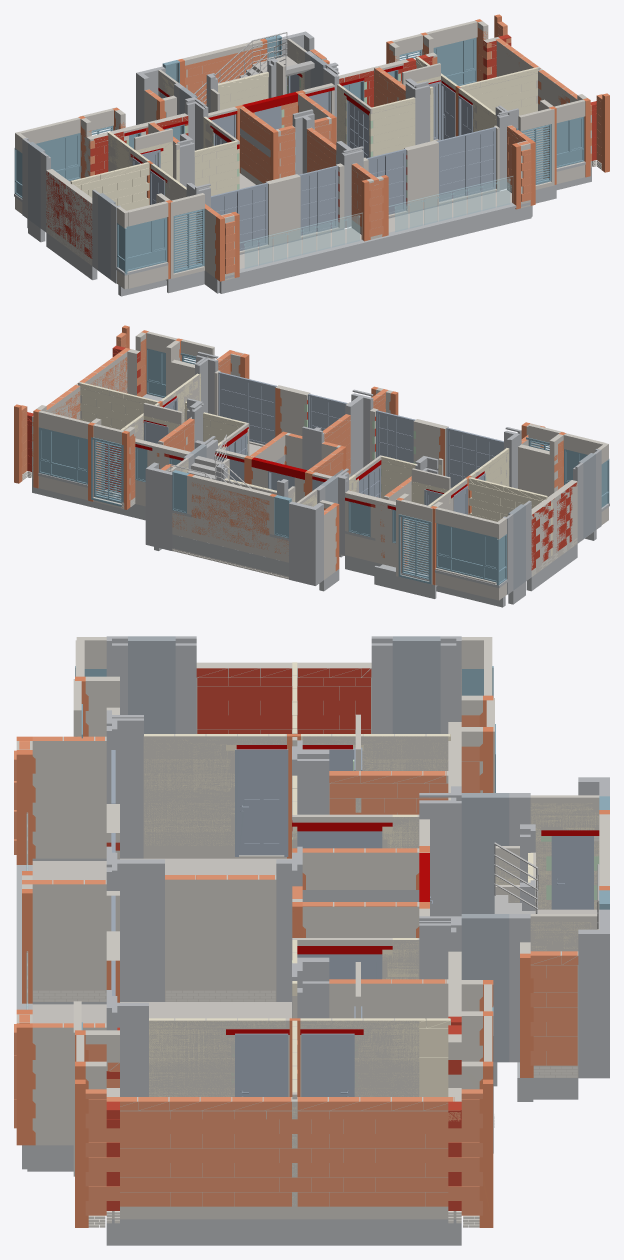
The picture shows the model from 3 angles, top to bottom: view 1: azimuth 30°, elevation 25°; view 2: azimuth 150°, elevation 25°; view 3: azimuth 270°, elevation 25°; orthographic projection. The views are drawn at different scales.
Parts seen in each view (by area): view 1: C_Q, C_M, C_QC__T100, C_QC__T200, C_W, C_Z.001, C_L, C_GZ, C_G, C_QC__T250, C_B, C_JL (+3 smaller); view 2: C_Q, C_W, C_Z.001, C_M, C_QC__T200, C_QC__T100, C_L, C_GZ, C_JL, C_QC__T250, C_GL, C_QT (+1 smaller); view 3: C_Q, C_QC__T200, C_Z.001, C_M, C_QC__T100, C_JL, C_GZ, C_L, C_QC__T250, C_B, C_GL, C_QC_F0 (+2 smaller).
Boxes of the visible parts, x1=… form: C_Q: x1=15, y1=20, x2=591, y2=289; C_M: x1=132, y1=74, x2=495, y2=250; C_QC__T100: x1=66, y1=44, x2=537, y2=240; C_QC__T200: x1=81, y1=21, x2=602, y2=274; C_W: x1=14, y1=35, x2=584, y2=274; C_Z.001: x1=22, y1=31, x2=518, y2=283; C_L: x1=14, y1=128, x2=591, y2=296; C_GZ: x1=78, y1=14, x2=609, y2=281; C_G: x1=240, y1=176, x2=513, y2=268; C_QC__T250: x1=46, y1=34, x2=596, y2=258; C_B: x1=103, y1=56, x2=511, y2=280; C_JL: x1=28, y1=55, x2=327, y2=279; C_Q: x1=32, y1=331, x2=608, y2=600; C_W: x1=38, y1=348, x2=609, y2=585; C_Z.001: x1=145, y1=351, x2=601, y2=594; C_M: x1=144, y1=372, x2=503, y2=514; C_QC__T200: x1=21, y1=332, x2=563, y2=566; C_QC__T100: x1=80, y1=373, x2=552, y2=555; C_L: x1=32, y1=394, x2=609, y2=607; C_GZ: x1=14, y1=325, x2=565, y2=584; C_JL: x1=189, y1=444, x2=595, y2=590; C_QC__T250: x1=27, y1=345, x2=576, y2=570; C_GL: x1=135, y1=396, x2=484, y2=510; C_QT: x1=170, y1=434, x2=251, y2=488; C_Q: x1=16, y1=637, x2=609, y2=1219; C_QC__T200: x1=14, y1=715, x2=578, y2=1215; C_Z.001: x1=106, y1=636, x2=609, y2=1096; C_M: x1=111, y1=747, x2=593, y2=1096; C_QC__T100: x1=144, y1=662, x2=599, y2=1204; C_JL: x1=128, y1=636, x2=509, y2=1062; C_GZ: x1=16, y1=676, x2=609, y2=1227; C_L: x1=16, y1=858, x2=578, y2=1245; C_QC__T250: x1=106, y1=668, x2=461, y2=1210; C_B: x1=32, y1=858, x2=599, y2=1023; C_GL: x1=226, y1=745, x2=599, y2=1034; C_QC_F0: x1=33, y1=836, x2=599, y2=1227.
Size of the model in its own units: 20 by 4.5 by 11.25.
